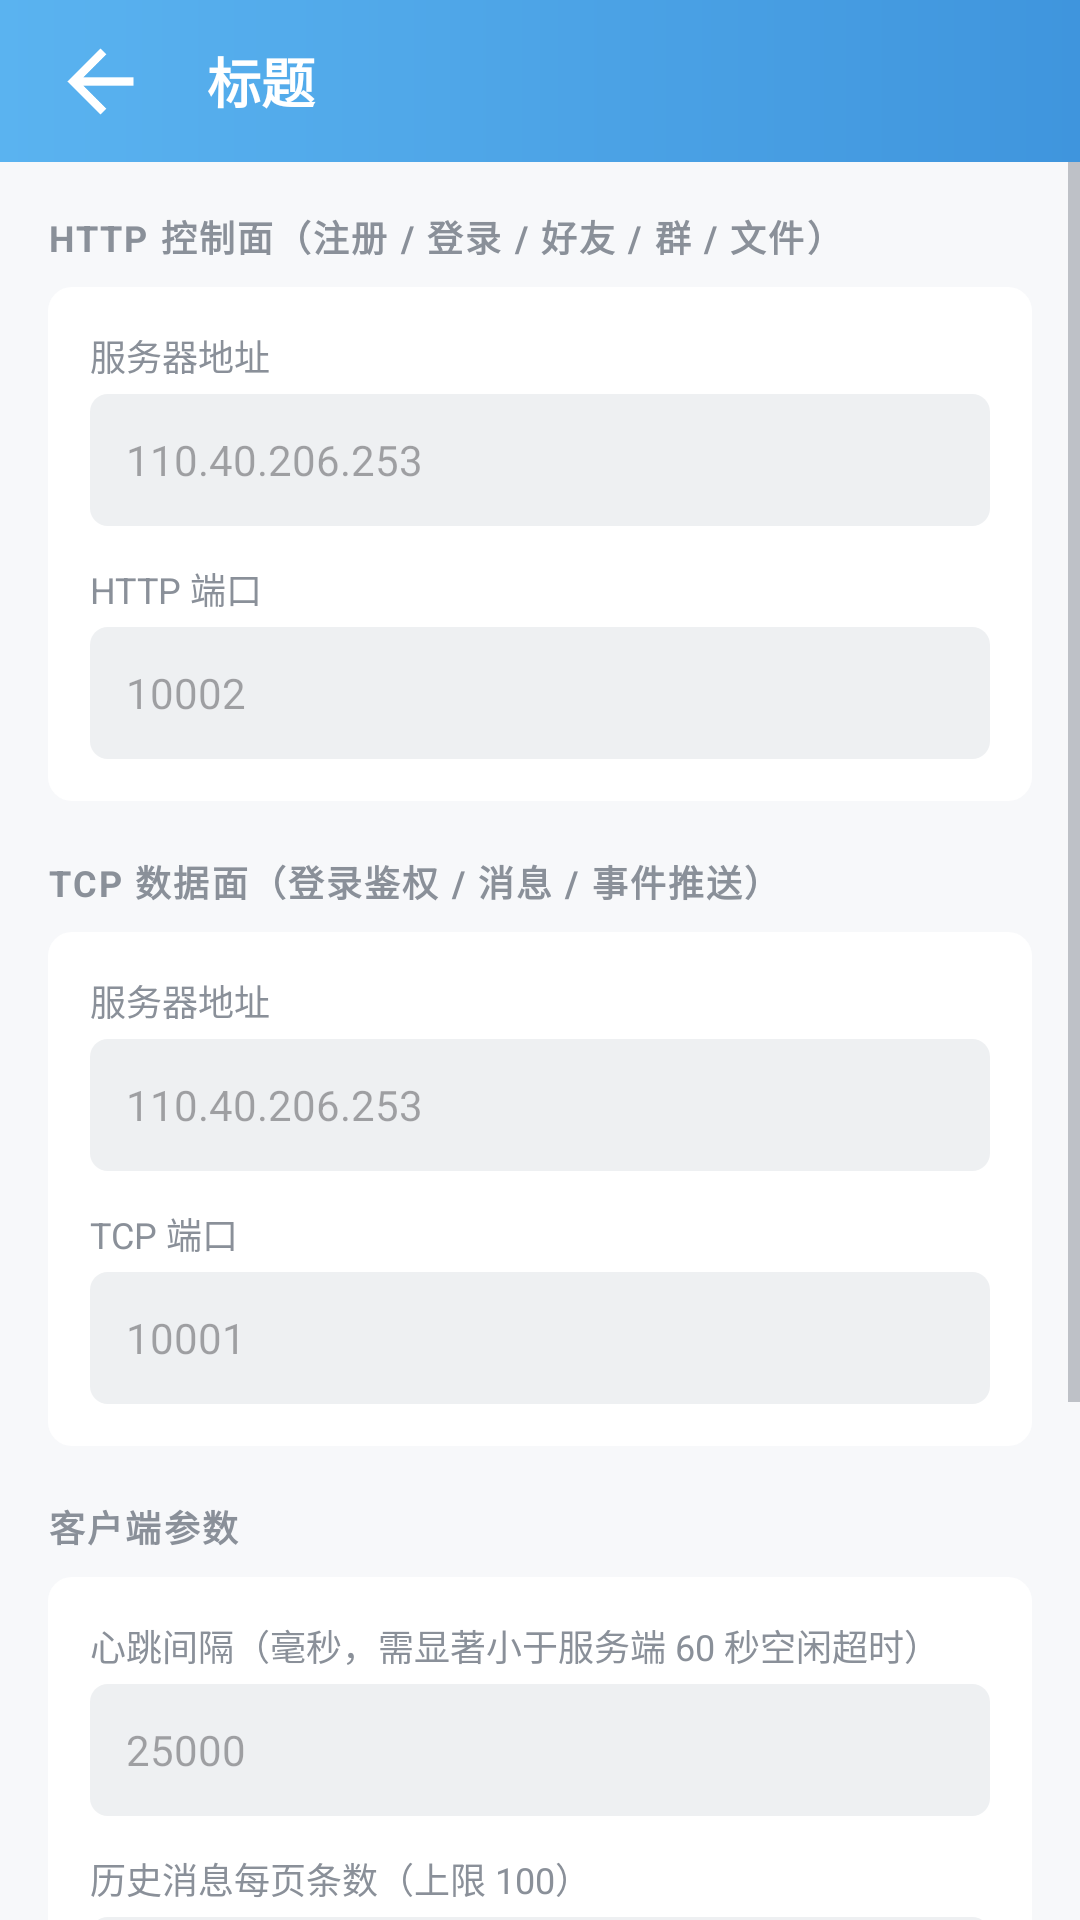

Named icons in this screenshot (1080*1920) and their centers, (x,y):
返回: (100,81)
